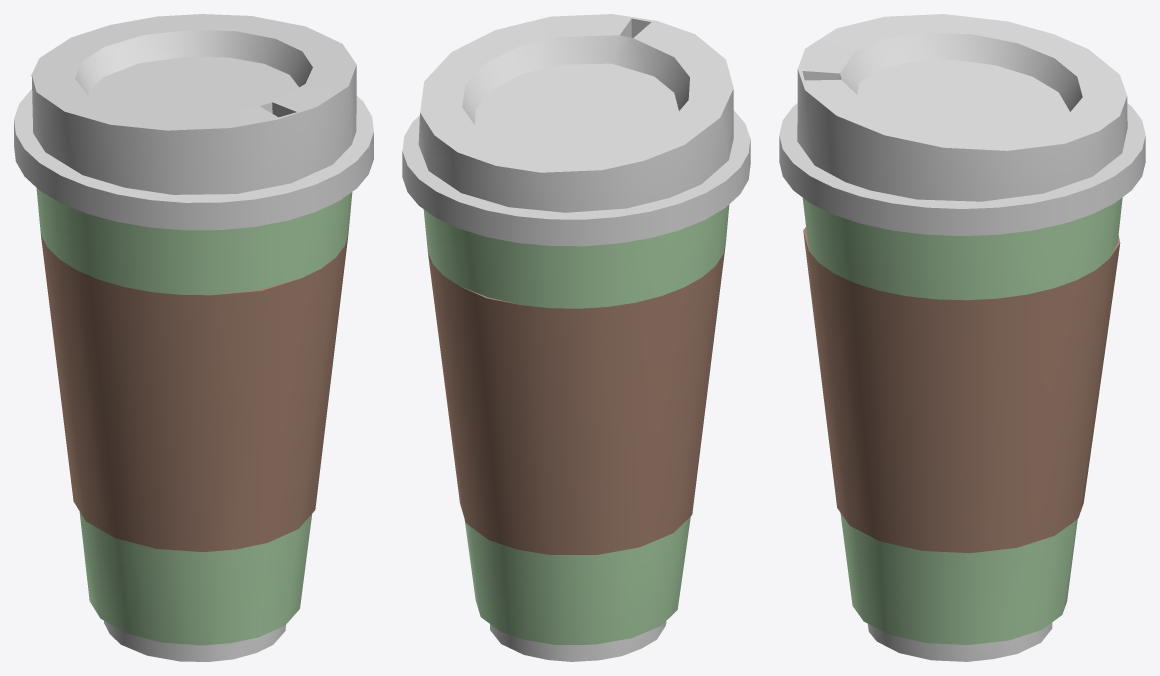
File: CoffeeCup.fbx
3 renders of one model, left to right at view 1: azimuth 30°, elevation 25°; view 2: azimuth 150°, elevation 25°; view 3: azimuth 270°, elevation 25°, orthographic. The views are drawn at different scales.
Parts seen in each view (by area): view 1: CoffeeCup; view 2: CoffeeCup; view 3: CoffeeCup.
Boxes of the visible parts, bbox=[...] form: CoffeeCup: bbox=[14, 14, 373, 661]; CoffeeCup: bbox=[402, 14, 750, 661]; CoffeeCup: bbox=[779, 14, 1145, 661].
Size of the model in its own units: 13.43 by 23.43 by 14.01.
